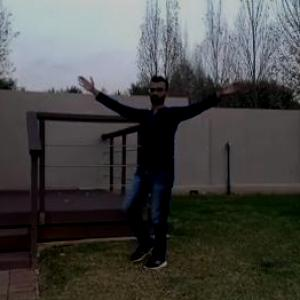takeoff: (82, 68, 255, 278)
